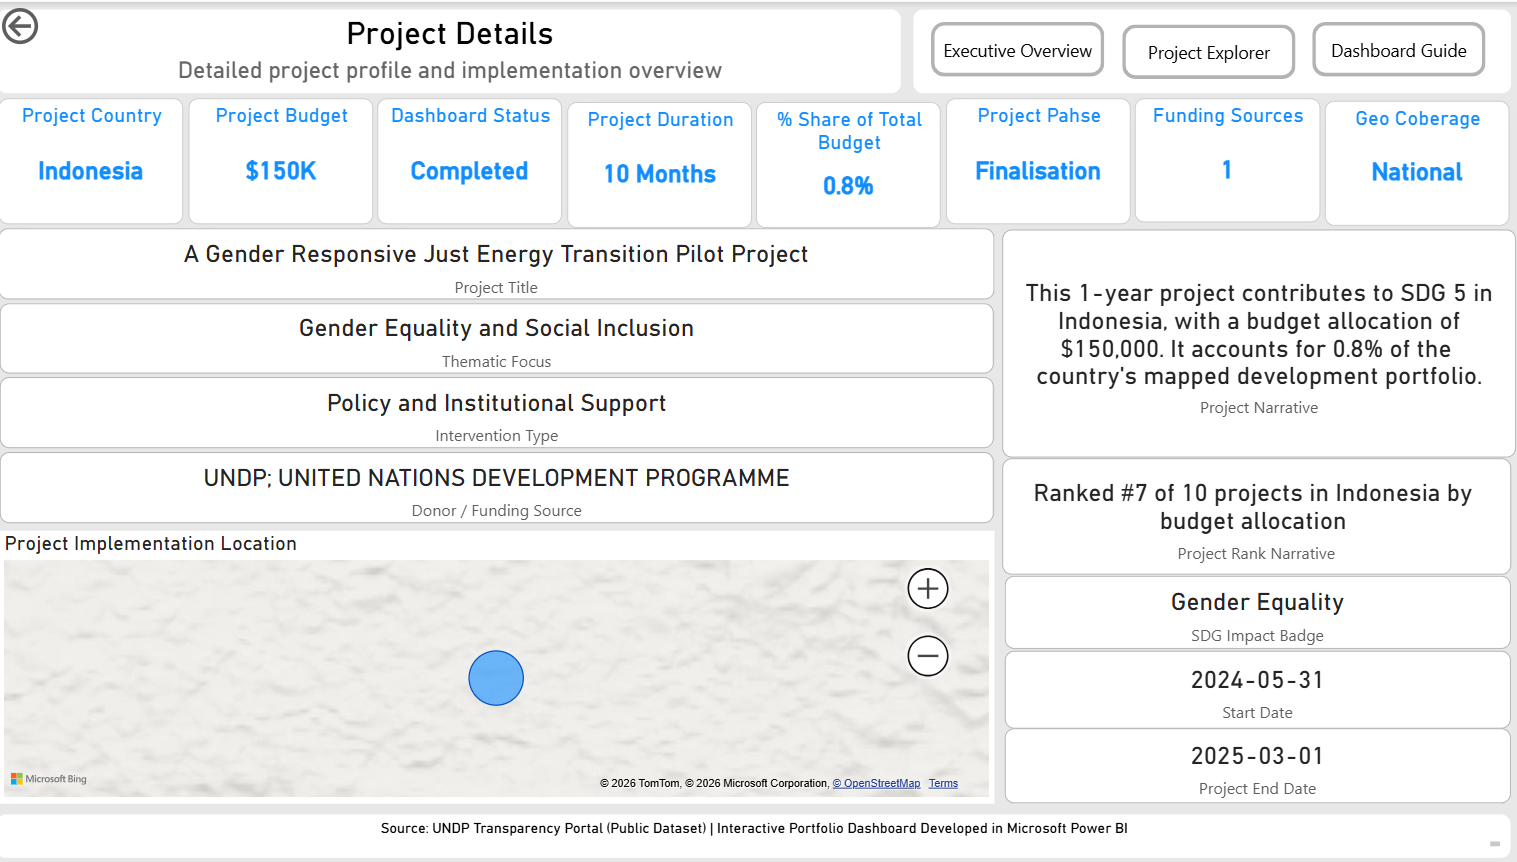

The dashboard page shown, as its layout file describes it:
{"tool":"powerbi","page":{"name":"Project Detail (Drill-through)","canvas":[1280,720],"ordinal":2},"visuals":[{"type":"textbox","title":"Project Details","box":[1.2,5.9,751.3,69.2],"z":0},{"type":"shape","box":[762.5,5.9,496.8,69.2],"z":0,"group":"g4"},{"type":"card","title":"Project Country","fields":{"Values":["Min(Projects.Country)"]},"box":[2.5,80.5,153.9,104.6],"z":0,"group":"g1"},{"type":"actionButton","title":"Executive Overview","box":[777.5,16.5,144.1,45.2],"z":1000,"group":"g4"},{"type":"card","title":"Project Budget","fields":{"Values":["Projects.Project Budget"]},"box":[160,80.5,153.9,104.6],"z":1000,"group":"g1"},{"type":"textbox","title":"Source: UNDP Transparency Portal (Public Dataset) | Interactive Portfolio Dashboard Developed in Microsoft Power BI","box":[0,676,1259.2,35.8],"z":1000},{"type":"actionButton","title":"Executive Overview","box":[935.6,17.9,144.1,45.2],"z":2000,"group":"g4"},{"type":"card","title":"Dashboard Status","fields":{"Values":["Min(Projects.Dashboard Status)"]},"box":[317.5,80.5,153.9,104.6],"z":2000,"group":"g1"},{"type":"map","title":"Project Implementation Location","fields":{"Y":["Projects.Latitude"],"X":["Projects.Longitude"],"Size":["Sum(Projects.Budget USD)"]},"box":[2.5,439.9,828,226.1],"z":2000},{"type":"card","title":"Project Country","fields":{"Values":["Projects.SDG Impact Badge"]},"box":[838.7,477.2,421,60.9],"z":2000,"group":"g3"},{"type":"actionButton","box":[0,0,100,40],"z":3000},{"type":"actionButton","title":"Executive Overview","box":[1093.7,16.5,144.1,45.2],"z":3000,"group":"g4"},{"type":"card","title":"Project Duration","fields":{"Values":["Projects.Project Duration Label"]},"box":[475.1,83,153.9,104.6],"z":3000,"group":"g1"},{"type":"group","id":"g1","title":"Group 1","box":[2.5,80.1,1256.7,107.5],"z":4000},{"type":"card","title":"% Share of Total Budget ","fields":{"Values":["Projects.Budget Share %"]},"box":[632.6,83,153.9,104.6],"z":4000,"group":"g1"},{"type":"card","title":"Project Pahse","fields":{"Values":["Min(Projects.Project Status)"]},"box":[790.1,80.5,153.9,104.6],"z":5000,"group":"g1"},{"type":"group","id":"g2","title":"Group 3","box":[2.1,188.4,827.9,245.3],"z":5000},{"type":"card","title":"Funding Sources","fields":{"Values":["Projects.Donor Funding Sources"]},"box":[947.6,80.1,154.1,103.6],"z":6000,"group":"g1"},{"type":"card","fields":{"Values":["Min(Projects.Project Title)"]},"box":[2.1,188.4,827.9,59.3],"z":6000,"group":"g2"},{"type":"group","id":"g3","title":"Group 5","box":[836.6,189.1,427.6,477],"z":6000},{"type":"group","id":"g4","title":"Group 4","box":[762.5,5.9,496.8,69.2],"z":7000},{"type":"card","title":"Geo Coberage","fields":{"Values":["Min(Projects.Geographic Coverage)"]},"box":[1105.3,81.8,153.9,103.6],"z":7000,"group":"g1"},{"type":"card","fields":{"Values":["Min(Projects.Thematic Focus)"]},"box":[3.3,250.8,826.7,58.1],"z":7000,"group":"g2"},{"type":"card","fields":{"Values":["Min(Projects.Intervention Type)"]},"box":[3.3,312,826.7,59.3],"z":8000,"group":"g2"},{"type":"card","fields":{"Values":["Min(Projects.Donor / Funding Source)"]},"box":[3.3,374.4,826.7,59.3],"z":9000,"group":"g2"},{"type":"card","title":"Project Country","fields":{"Values":["Projects.Project Start Year"]},"box":[838.7,538.8,421,64.4],"z":10000,"group":"g3"},{"type":"card","title":"Project Country","fields":{"Values":["Projects.Project End Year"]},"box":[838.7,604,421,62.1],"z":11000,"group":"g3"},{"type":"card","fields":{"Values":["Projects.Project Narrative"]},"box":[836.6,189.1,427.6,189.8],"z":12000,"group":"g3"},{"type":"card","title":"Project Country","fields":{"Values":["Projects.Project Rank Narrative"]},"box":[836.6,379.7,422.9,96.7],"z":13000,"group":"g3"}]}

Visuals, with their boxes in screenshot pixels (x1, y1, x2, y2), scaled from the page's 1280x720 canvas onto the 1517x862 screenshot:
"Project Details" textbox: (1,7,892,90)
shape: (904,7,1492,90)
"Project Country" card: (3,96,185,222)
"Executive Overview" actionButton: (921,20,1092,74)
"Project Budget" card: (190,96,372,222)
"Source: UNDP Transparency Portal (Public Dataset) | Interactive Portfolio Dashboard Developed in Microsoft Power BI" textbox: (0,809,1492,852)
"Executive Overview" actionButton: (1109,21,1280,76)
"Dashboard Status" card: (376,96,559,222)
"Project Implementation Location" map: (3,527,984,797)
"Project Country" card: (994,571,1493,644)
actionButton: (0,0,119,48)
"Executive Overview" actionButton: (1296,20,1467,74)
"Project Duration" card: (563,99,745,225)
"Group 1" group: (3,96,1492,225)
"% Share of Total Budget " card: (750,99,932,225)
"Project Pahse" card: (936,96,1119,222)
"Group 3" group: (2,226,984,519)
"Funding Sources" card: (1123,96,1306,220)
card - Min(Projects.Project Title): (2,226,984,297)
"Group 5" group: (992,226,1498,797)
"Group 4" group: (904,7,1492,90)
"Geo Coberage" card: (1310,98,1492,222)
card - Min(Projects.Thematic Focus): (4,300,984,370)
card - Min(Projects.Intervention Type): (4,374,984,445)
card - Min(Projects.Donor / Funding Source): (4,448,984,519)
"Project Country" card: (994,645,1493,722)
"Project Country" card: (994,723,1493,797)
card - Projects.Project Narrative: (992,226,1498,454)
"Project Country" card: (992,455,1493,570)
